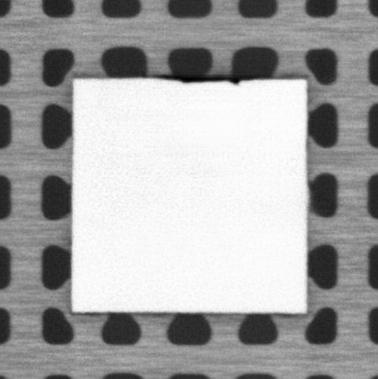DIE_BROKEN: (156, 72, 267, 84)
